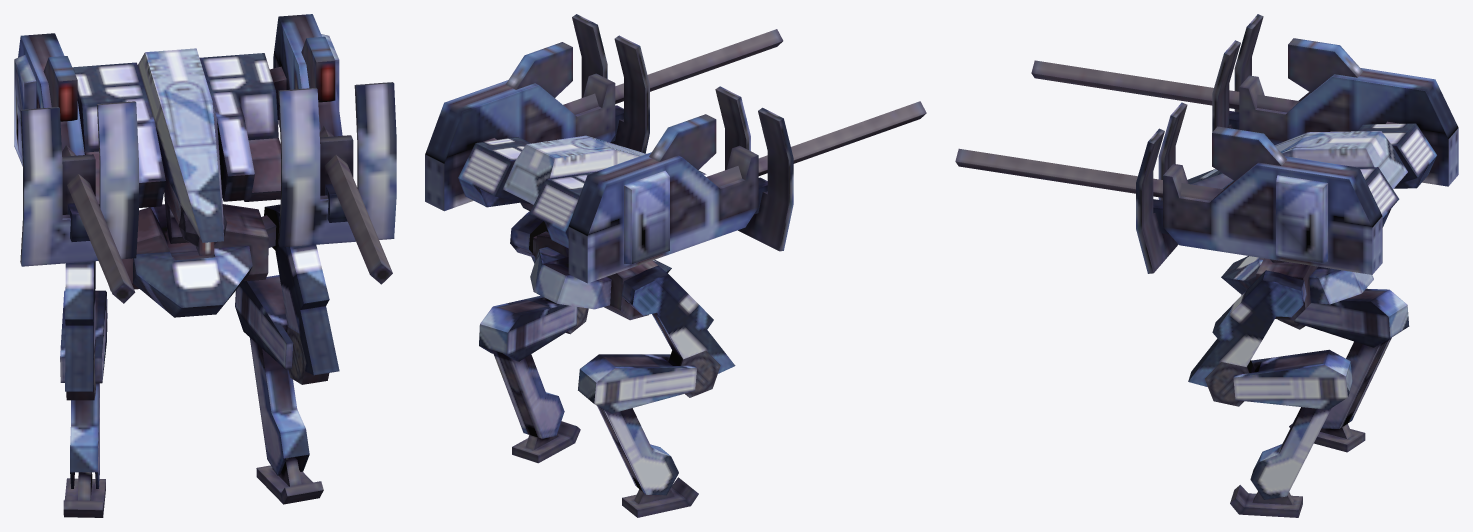
The model's file is DGZZ_enemy-rd07_7b353652.glb.
3 renders of one model, left to right at view 1: azimuth 30°, elevation 25°; view 2: azimuth 150°, elevation 25°; view 3: azimuth 270°, elevation 25°, orthographic. The views are drawn at different scales.
Visible parts, largest first — view 1: rd07; view 2: rd07; view 3: rd07.
Part boxes in pixels (box(x1,y1,x2,y2)): rd07: box(14, 14, 396, 517); rd07: box(425, 14, 926, 517); rd07: box(955, 14, 1458, 517).
Size of the model in its own units: 1.16 by 1.28 by 1.52.
Materials: 1 (1 with a texture image).
